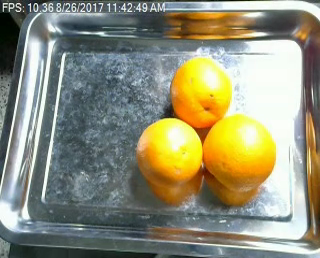Orange: (202, 114, 275, 192), (135, 117, 202, 188), (169, 56, 232, 129)
